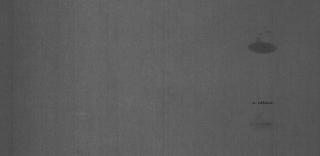oil spot: (246, 31, 280, 58), (248, 99, 280, 107)
